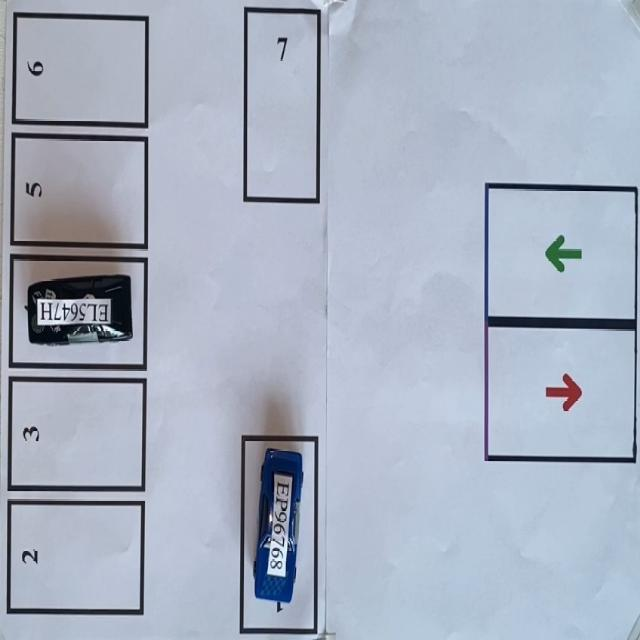car: (254, 448, 303, 610), (26, 274, 131, 344)
